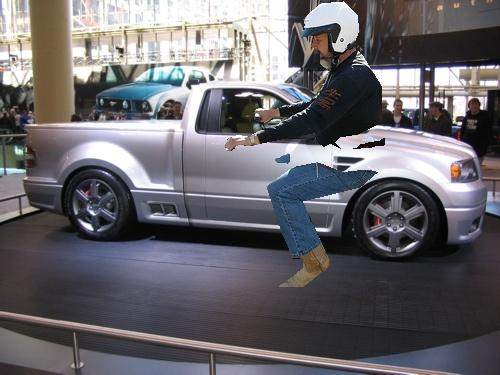tampered: (226, 2, 385, 287)
